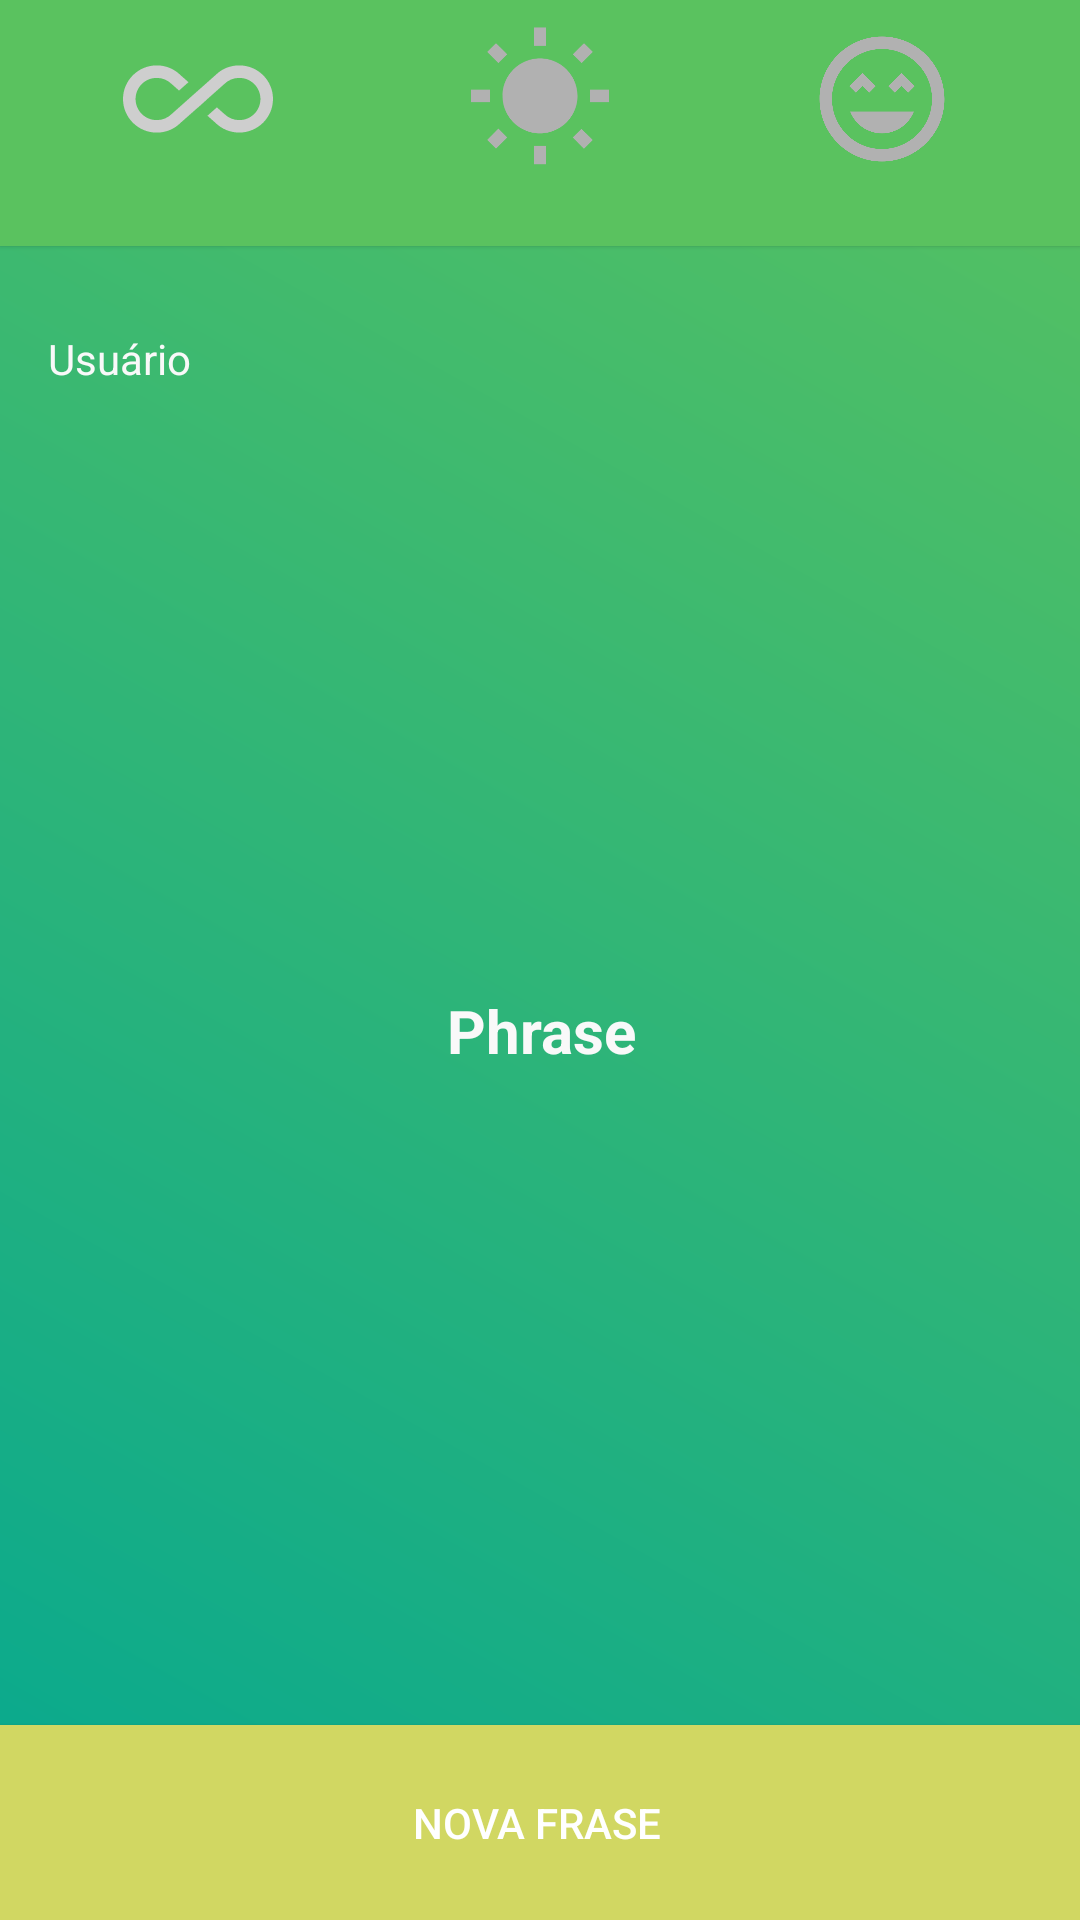

Icon bounding boxes for this 1080 x 1920 phone screenshot, format (x1, y1, x2, y2):
happy: (819, 36, 945, 162)
sun: (471, 27, 609, 164)
